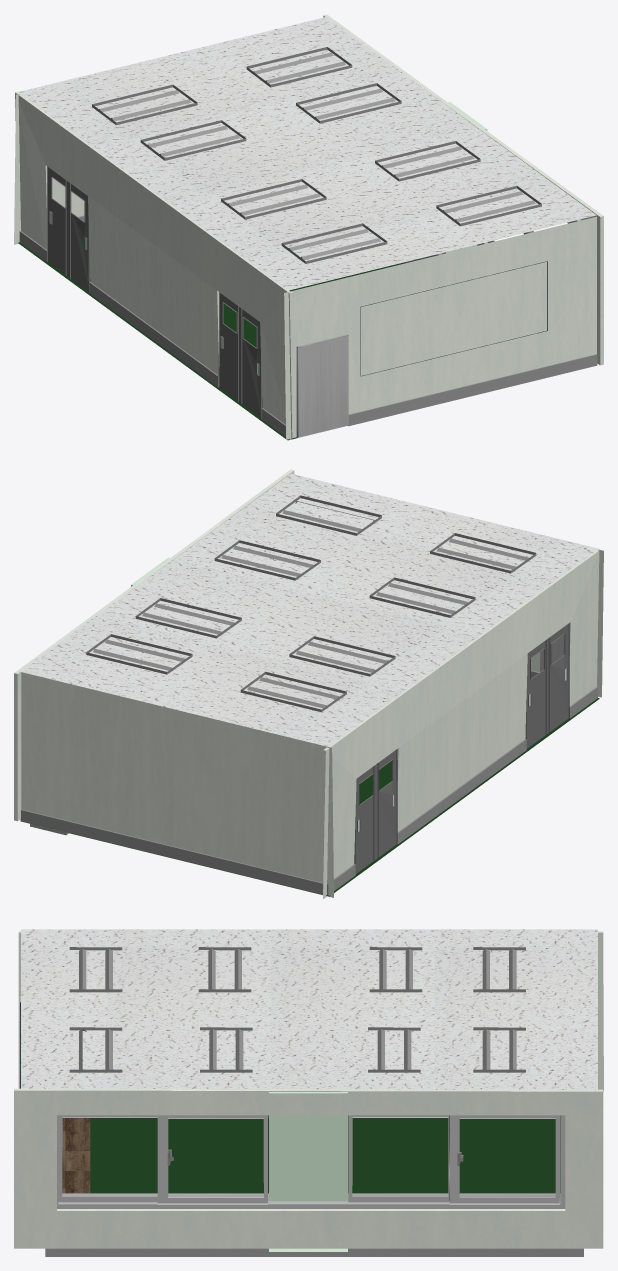
File: ScienceRoom.FBX
3 views of the same model, one above another, from view 1: azimuth 30°, elevation 25°; view 2: azimuth 150°, elevation 25°; view 3: azimuth 270°, elevation 25° (orthographic). The views are drawn at different scales.
Visible parts, largest first — view 1: ceiling, frontWall, DoorWall, SciencePreparationDoor, Box005, WindowWallm, Door002, Door001, Door003, Box001, Door, Floor (+9 smaller); view 2: ceiling, BackWall, DoorWall, Box004, WindowWallm, Door002, Door001, Door003, Door, Box001, Floor, Frame015 (+8 smaller); view 3: ceiling, WindowWallm, Floor, Pillar, WaterSupply, WindowFrame (×2), WindowFrame004, WindowFrame006, dai, WindowFrame005, DoorWall, Frame (+7 smaller).
Boxes of the visible parts, bbox=[...] form: ceiling: bbox=[17, 17, 596, 290]; frontWall: bbox=[284, 216, 596, 439]; DoorWall: bbox=[15, 91, 292, 439]; SciencePreparationDoor: bbox=[296, 334, 348, 437]; Box005: bbox=[348, 354, 597, 426]; WindowWallm: bbox=[323, 14, 603, 365]; Door002: bbox=[238, 306, 261, 418]; Door001: bbox=[65, 180, 89, 292]; Door003: bbox=[218, 292, 242, 404]; Box001: bbox=[89, 282, 219, 387]; Door: bbox=[47, 166, 70, 278]; Floor: bbox=[18, 237, 404, 440]; ceiling: bbox=[20, 473, 598, 746]; BackWall: bbox=[20, 672, 333, 897]; DoorWall: bbox=[323, 550, 599, 898]; Box004: bbox=[21, 809, 322, 894]; WindowWallm: bbox=[14, 469, 294, 821]; Door002: bbox=[545, 623, 569, 735]; Door001: bbox=[373, 749, 397, 861]; Door003: bbox=[525, 637, 549, 748]; Door: bbox=[354, 763, 378, 873]; Box001: bbox=[397, 739, 526, 844]; Floor: bbox=[21, 698, 599, 896]; Frame015: bbox=[430, 533, 536, 573]; ceiling: bbox=[21, 929, 597, 1089]; WindowWallm: bbox=[14, 1088, 603, 1248]; Floor: bbox=[90, 1115, 560, 1193]; Pillar: bbox=[269, 1092, 347, 1251]; WaterSupply: bbox=[45, 1193, 583, 1256]; WindowFrame (×2): bbox=[57, 1115, 565, 1208]; WindowFrame004: bbox=[157, 1115, 268, 1204]; WindowFrame006: bbox=[449, 1115, 559, 1204]; dai: bbox=[62, 1118, 90, 1193]; WindowFrame005: bbox=[348, 1115, 449, 1202]; DoorWall: bbox=[18, 931, 603, 1091]; Frame: bbox=[473, 1027, 525, 1072].
Size of the model in its own units: 856 by 414 by 1285.
20 materials, 9 textured.
